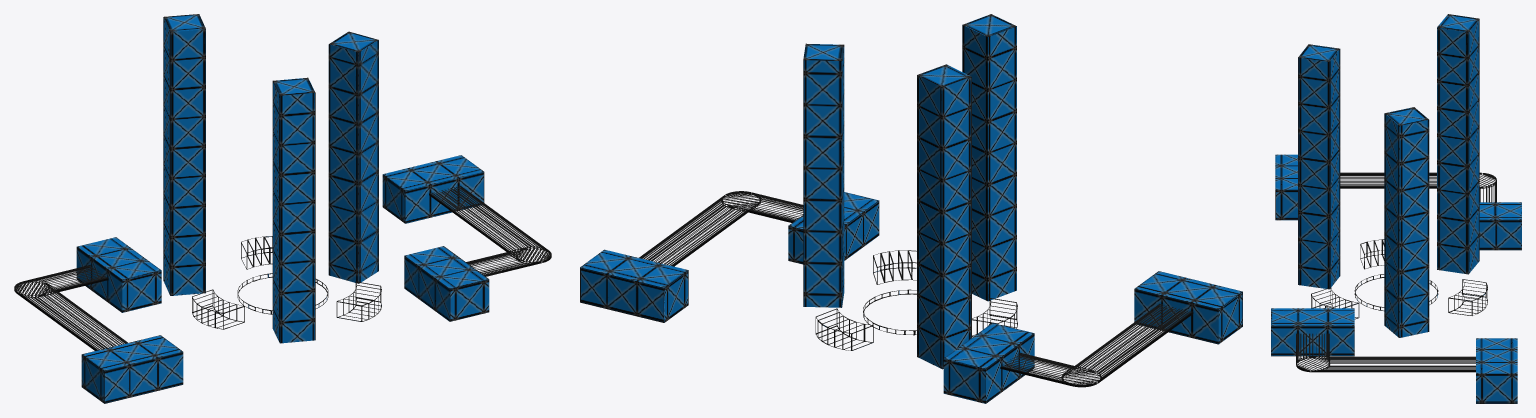
File: city-unmerged.dae
3 views of the same model, side by side, from view 1: azimuth 30°, elevation 25°; view 2: azimuth 150°, elevation 25°; view 3: azimuth 270°, elevation 25° (orthographic). The views are drawn at different scales.
Parts seen in each view (by area): view 1: Skyscraper.002, Skyscraper.000, Skyscraper.001, BoxL0, BoxR0, BoxR1, BoxL1, BridgeR, BridgeL, Hub.000, Hub.002; view 2: Skyscraper.000, Skyscraper.001, Skyscraper.002, BoxR0, BoxL0, BoxL1, BridgeL, BridgeR, BoxR1, Hub.001, Hub.002; view 3: Skyscraper.000, Skyscraper.001, Skyscraper.002, BoxR1, BridgeR, BoxR0, BoxL1, BoxL0, BridgeL, Hub.001, Hub.002, Hub.000 (+1 smaller).
Part boxes in pixels (x1,y1,x2,y2): Skyscraper.002: (328, 31, 378, 283); Skyscraper.000: (163, 14, 205, 295); Skyscraper.001: (272, 77, 315, 343); BoxL0: (81, 335, 183, 403); BoxR0: (382, 155, 484, 223); BoxR1: (404, 246, 489, 321); BoxL1: (76, 237, 161, 312); BridgeR: (429, 185, 551, 276); BridgeL: (14, 265, 127, 350); Hub.000: (192, 289, 244, 329); Hub.002: (336, 281, 381, 321); Skyscraper.000: (917, 64, 971, 369); Skyscraper.001: (962, 14, 1016, 301); Skyscraper.002: (803, 43, 844, 307); BoxR0: (580, 249, 688, 322); BoxL0: (1134, 271, 1242, 344); BoxL1: (943, 323, 1034, 403); BridgeL: (1000, 304, 1193, 387); BridgeR: (639, 191, 803, 266); BoxR1: (788, 192, 879, 264); Hub.001: (815, 308, 873, 350); Hub.002: (873, 250, 916, 284); Skyscraper.000: (1437, 14, 1479, 274); Skyscraper.001: (1298, 44, 1340, 289); Skyscraper.002: (1384, 107, 1429, 337); BoxR1: (1271, 308, 1354, 356); BridgeR: (1296, 333, 1475, 372); BoxR0: (1476, 338, 1517, 403); BoxL1: (1479, 202, 1521, 250); BoxL0: (1275, 154, 1297, 220); BridgeL: (1340, 172, 1496, 202); Hub.001: (1448, 279, 1487, 315); Hub.002: (1311, 287, 1359, 319); Hub.000: (1360, 239, 1384, 269).
Bounding box in the file's own units: 62 × 30 × 32.
Materials: 1 (1 with a texture image).
